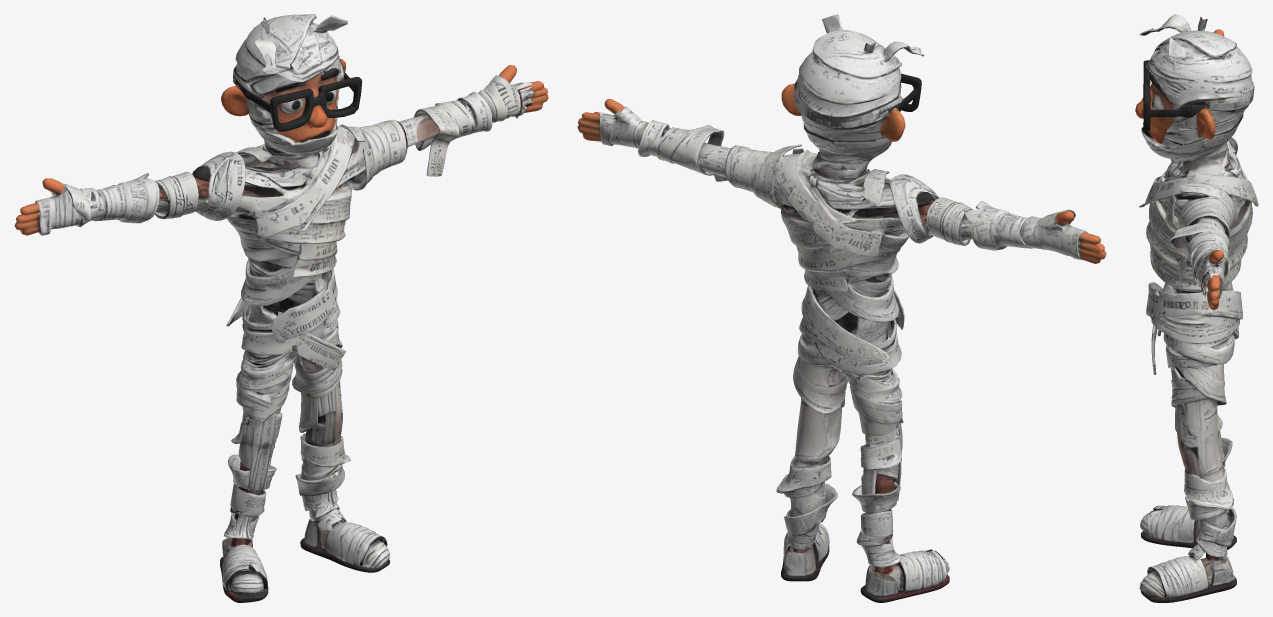
File: lost_receipts.glb
3 renders of one model, left to right at view 1: azimuth 30°, elevation 25°; view 2: azimuth 150°, elevation 25°; view 3: azimuth 270°, elevation 25°, orthographic. The views are drawn at different scales.
Visible parts, largest first — view 1: tripo_node_ba1dfddc-2a16-4444-98ca-458dd9542ac2; view 2: tripo_node_ba1dfddc-2a16-4444-98ca-458dd9542ac2; view 3: tripo_node_ba1dfddc-2a16-4444-98ca-458dd9542ac2.
Boxes of the visible parts, <box> form: tripo_node_ba1dfddc-2a16-4444-98ca-458dd9542ac2: <box>14,14,548,602</box>; tripo_node_ba1dfddc-2a16-4444-98ca-458dd9542ac2: <box>577,14,1106,602</box>; tripo_node_ba1dfddc-2a16-4444-98ca-458dd9542ac2: <box>1135,14,1258,602</box>.
Size of the model in its own units: 0.9814 by 0.9788 by 0.202.
Materials: 1 (1 with a texture image).
